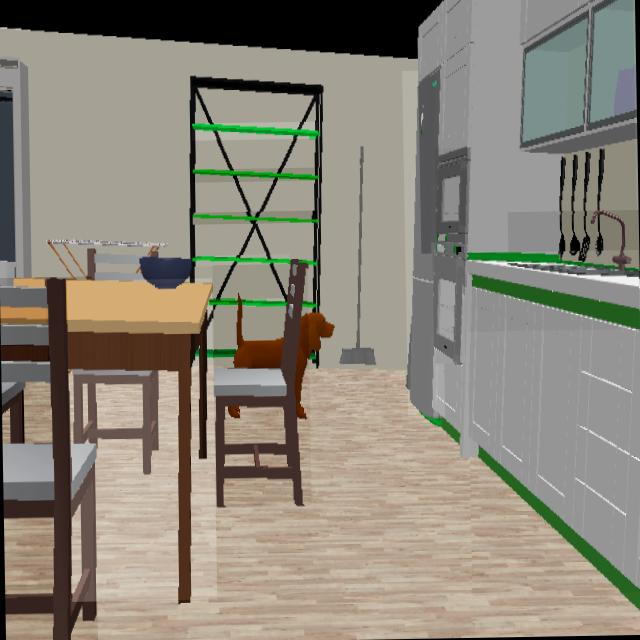cabinet: (418, 0, 636, 251), (467, 287, 640, 587)
chair: (66, 281, 211, 599), (0, 278, 96, 640), (214, 259, 306, 505)
countertop: (467, 253, 639, 329)
fridge: (408, 70, 440, 416)
microwave: (437, 148, 467, 233)
oven: (434, 243, 462, 362)
shelf: (192, 123, 318, 138), (193, 169, 319, 180), (193, 212, 315, 222), (196, 255, 289, 264), (246, 300, 285, 306), (209, 299, 237, 305)
sink: (509, 210, 639, 277)
table: (66, 281, 211, 600), (0, 308, 46, 324), (0, 346, 48, 360), (14, 279, 45, 286)
